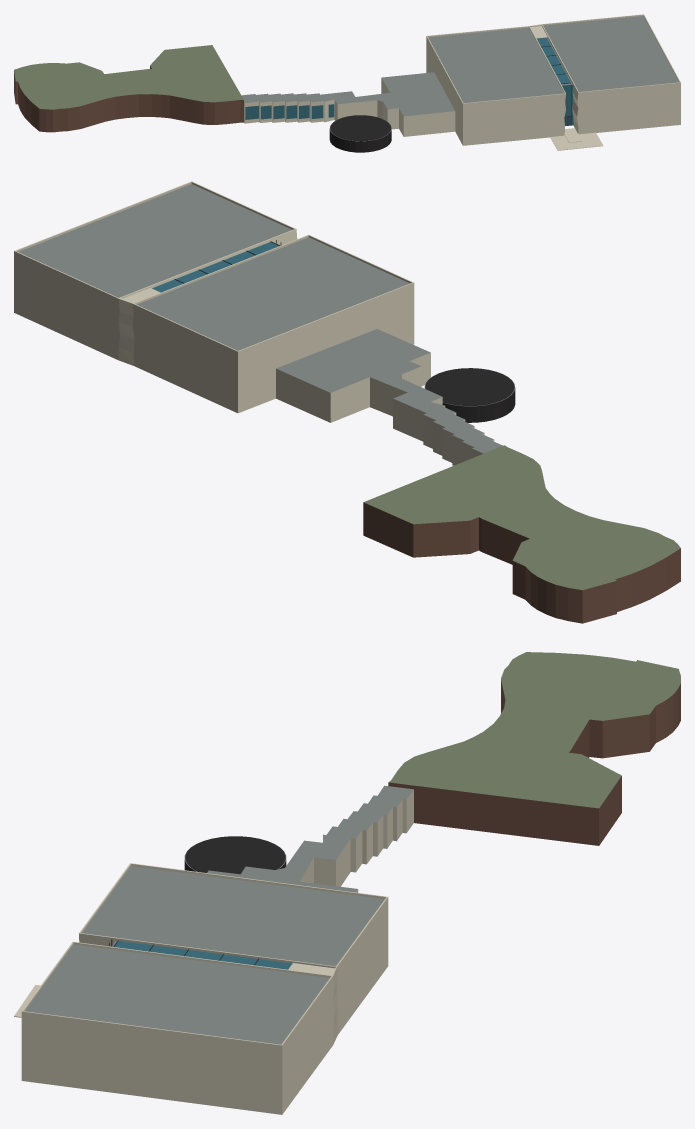
The model's file is memorial-de-caen-far.glb.
3 views of the same model, one above another, from view 1: azimuth 30°, elevation 25°; view 2: azimuth 150°, elevation 25°; view 3: azimuth 270°, elevation 25° (orthographic). The views are drawn at different scales.
Parts seen in each view (by area): view 1: memorial-de-caen-0-roof, memorial-de-caen-0-stone, memorial-de-caen-0-softRoof, memorial-de-caen-0-steel, memorial-de-caen-0-metal, memorial-de-caen-0-glass; view 2: memorial-de-caen-0-roof, memorial-de-caen-0-stone, memorial-de-caen-0-softRoof, memorial-de-caen-0-steel, memorial-de-caen-0-metal, memorial-de-caen-0-glass; view 3: memorial-de-caen-0-roof, memorial-de-caen-0-stone, memorial-de-caen-0-softRoof, memorial-de-caen-0-steel, memorial-de-caen-0-metal, memorial-de-caen-0-glass.
Boxes of the visible parts, x1=… form: memorial-de-caen-0-roof: x1=241, y1=16, x2=678, y2=141; memorial-de-caen-0-stone: x1=244, y1=14, x2=680, y2=150; memorial-de-caen-0-softRoof: x1=14, y1=45, x2=243, y2=109; memorial-de-caen-0-steel: x1=14, y1=66, x2=243, y2=132; memorial-de-caen-0-metal: x1=329, y1=46, x2=572, y2=152; memorial-de-caen-0-glass: x1=245, y1=37, x2=573, y2=125; memorial-de-caen-0-roof: x1=18, y1=184, x2=515, y2=453; memorial-de-caen-0-stone: x1=14, y1=181, x2=494, y2=465; memorial-de-caen-0-softRoof: x1=364, y1=445, x2=680, y2=590; memorial-de-caen-0-steel: x1=363, y1=502, x2=680, y2=623; memorial-de-caen-0-metal: x1=174, y1=240, x2=515, y2=422; memorial-de-caen-0-glass: x1=152, y1=242, x2=279, y2=292; memorial-de-caen-0-roof: x1=25, y1=785, x2=413, y2=1044; memorial-de-caen-0-stone: x1=14, y1=789, x2=413, y2=1114; memorial-de-caen-0-softRoof: x1=388, y1=652, x2=680, y2=808; memorial-de-caen-0-steel: x1=388, y1=680, x2=680, y2=845; memorial-de-caen-0-metal: x1=107, y1=836, x2=286, y2=965; memorial-de-caen-0-glass: x1=113, y1=941, x2=292, y2=969.
Bounding box in the file's own units: 197 × 15 × 131.
